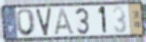1: (97, 5, 108, 35)
3: (74, 6, 91, 36), (112, 5, 128, 35)
A: (53, 7, 76, 37)
O: (16, 8, 37, 38)
V: (35, 7, 53, 37)
